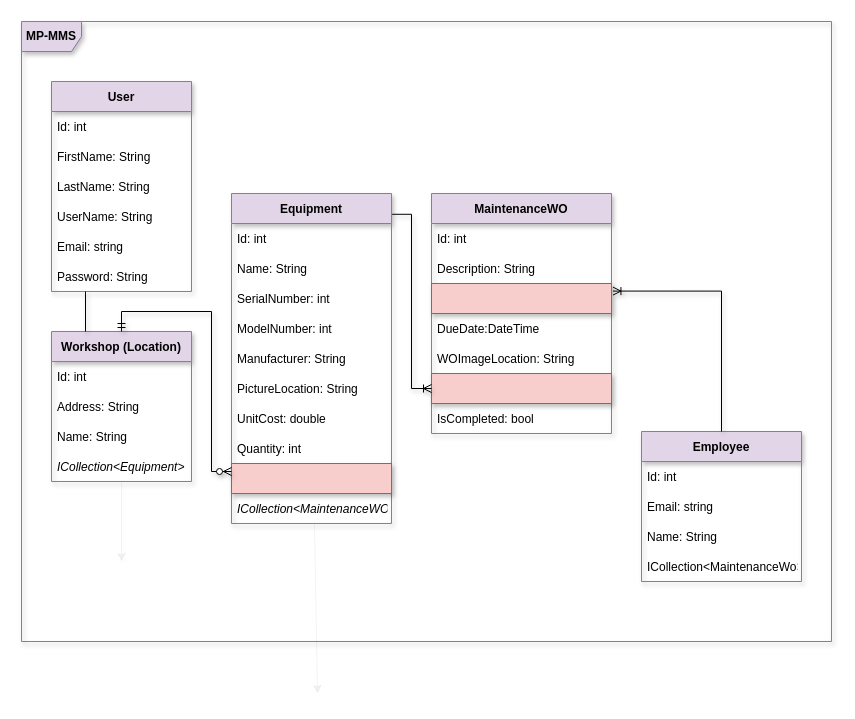
Image size: 855x719. Some labels were removed from this diagram. The shapes that lost their labels are listed below. From the top down, each one's centre as x and y in pixels, then its label:
At point 522,299: "AssignedTo: Role_Id".
At point 522,389: "Equipment: Equipment_id".
At point 312,479: "Workshop: Workshop_id".
